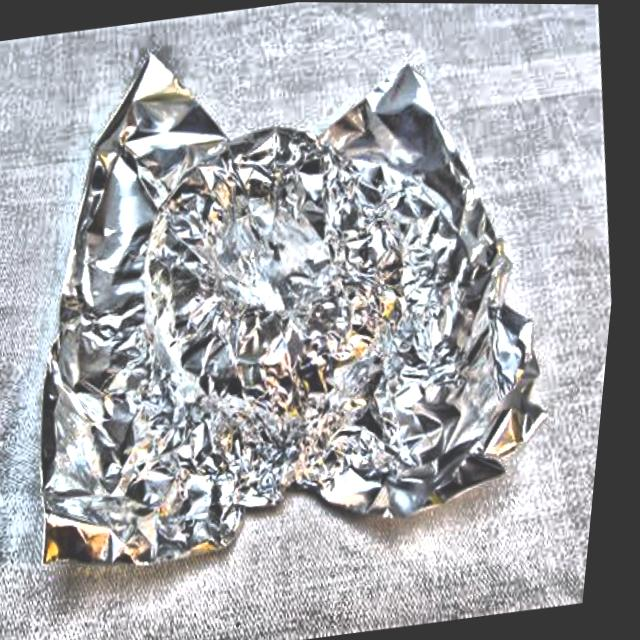Foil: (0, 0, 607, 592)
